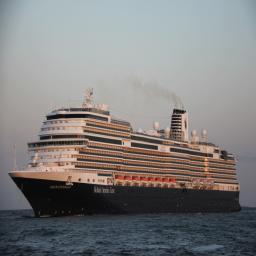cruises: (9, 88, 248, 216)
